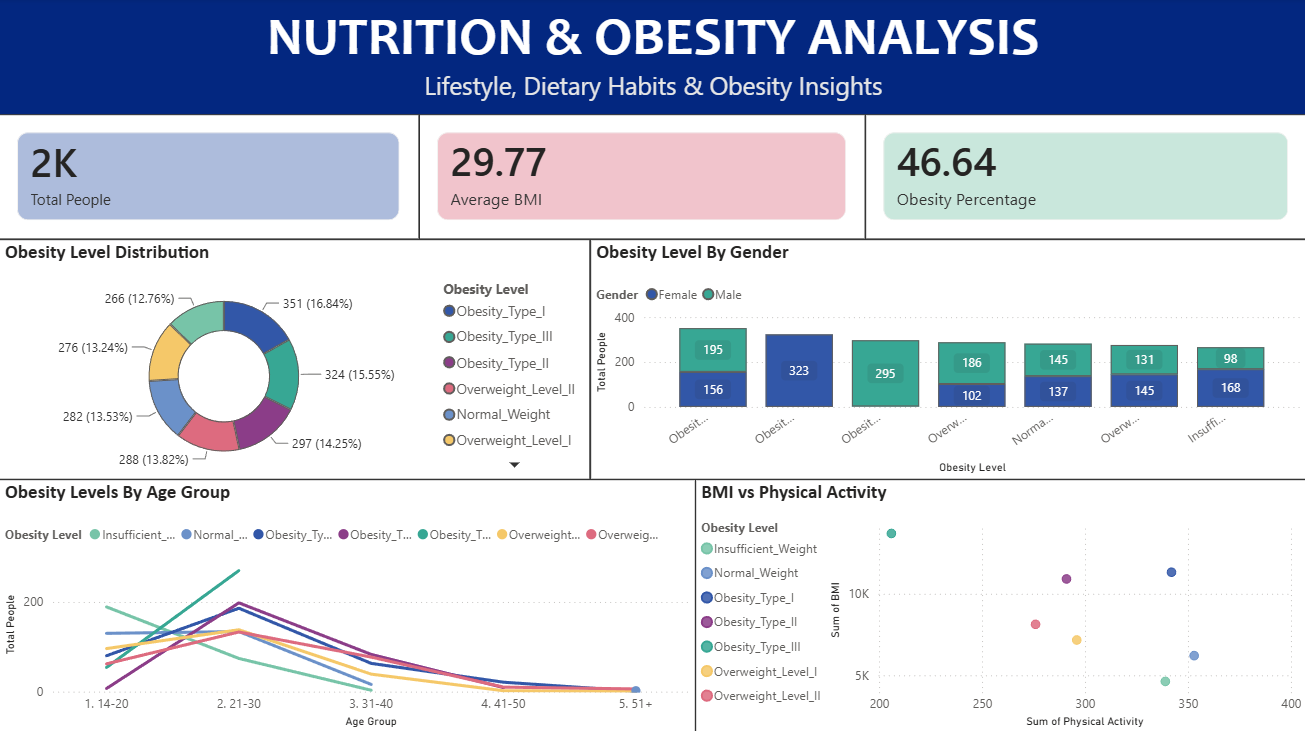

The dashboard page shown, as its layout file describes it:
{"tool":"powerbi","page":{"name":"Nutrition And Obesity Analysis","canvas":[1280,720],"ordinal":0},"visuals":[{"type":"cardVisual","fields":{"Data":["Obesity Data Analysis.Total People"]},"box":[0,113.7,410.9,122.3],"z":0},{"type":"cardVisual","fields":{"Data":["Obesity Data Analysis.Average BMI"]},"box":[410.9,113.7,436.6,122.3],"z":1000},{"type":"cardVisual","fields":{"Data":["Obesity Data Analysis.Obesity Percentage"]},"box":[847.4,113.7,432.9,122.3],"z":2000},{"type":"textbox","box":[0,0,1280,113.8],"z":3000},{"type":"donutChart","title":"Obesity Level Distribution","fields":{"Category":["Obesity Data Analysis.Obesity Level"],"Y":["Obesity Data Analysis.Total People"]},"box":[0,236.2,578.8,235],"z":4000},{"type":"columnChart","title":"Obesity Level By Gender","fields":{"Category":["Obesity Data Analysis.Obesity Level"],"Y":["Obesity Data Analysis.Total People"],"Series":["Obesity Data Analysis.Gender"]},"box":[578.8,236.2,701.2,235],"z":5000},{"type":"scatterChart","title":"BMI vs Physical Activity","fields":{"X":["Sum(Obesity Data Analysis.Physical Activity)"],"Y":["Sum(Obesity Data Analysis.BMI)"],"Series":["Obesity Data Analysis.Obesity Level"]},"box":[681.2,471.2,598.8,248.8],"z":6000},{"type":"lineChart","title":"Obesity Levels By Age Group","fields":{"Category":["Obesity Data Analysis.Age Group"],"Y":["Obesity Data Analysis.Total People"],"Series":["Obesity Data Analysis.Obesity Level"]},"box":[0,471.2,681.2,248.8],"z":7000}]}

Visuals, with their boxes in screenshot pixels (x1, y1, x2, y2), scaled from the page's 1280x720 canvas onto the 1305x731 screenshot:
cardVisual - Obesity Data Analysis.Total People: pyautogui.locateOnScreen(0, 115, 419, 240)
cardVisual - Obesity Data Analysis.Average BMI: pyautogui.locateOnScreen(419, 115, 864, 240)
cardVisual - Obesity Data Analysis.Obesity Percentage: pyautogui.locateOnScreen(864, 115, 1304, 240)
textbox: pyautogui.locateOnScreen(0, 0, 1304, 116)
"Obesity Level Distribution" donutChart: pyautogui.locateOnScreen(0, 240, 590, 478)
"Obesity Level By Gender" columnChart: pyautogui.locateOnScreen(590, 240, 1304, 478)
"BMI vs Physical Activity" scatterChart: pyautogui.locateOnScreen(695, 478, 1304, 730)
"Obesity Levels By Age Group" lineChart: pyautogui.locateOnScreen(0, 478, 695, 730)
